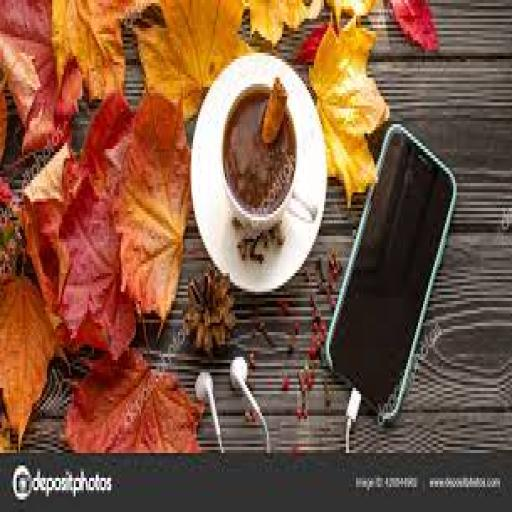phone: (326, 124, 453, 450)
